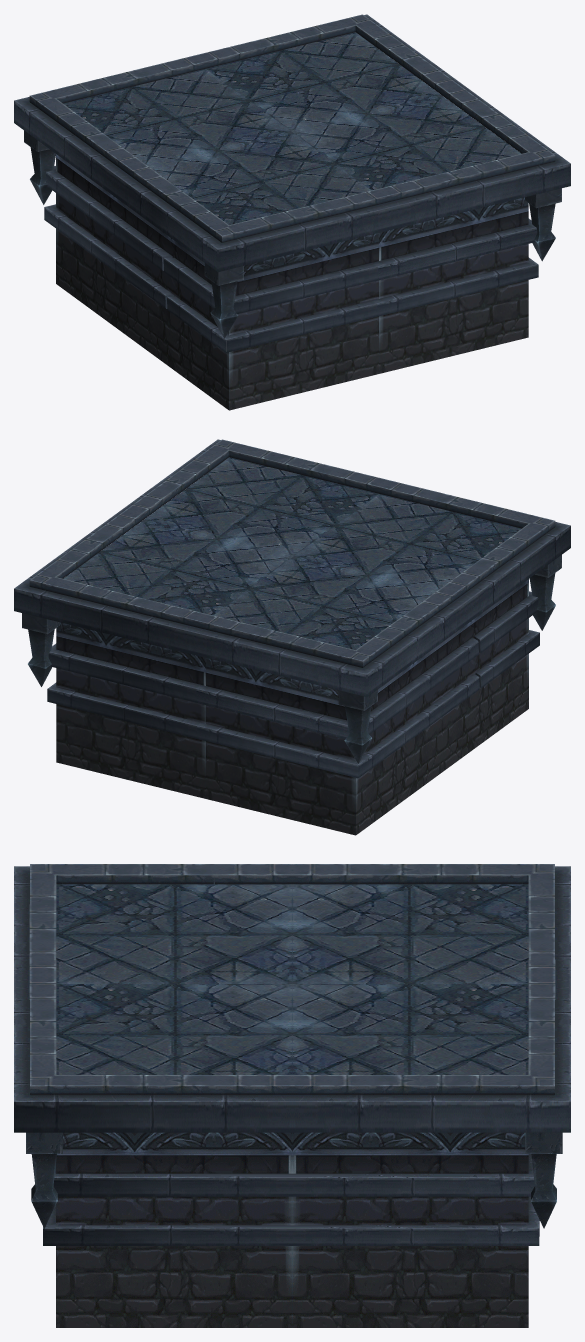
File: Ice_platform07.FBX
3 views of the same model, one above another, from view 1: azimuth 30°, elevation 25°; view 2: azimuth 150°, elevation 25°; view 3: azimuth 270°, elevation 25° (orthographic). The views are drawn at different scales.
Parts seen in each view (by area): view 1: Group008; view 2: Group008; view 3: Group008.
Boxes of the visible parts, box(x1,y1,x2,y2) form: Group008: box(14, 14, 570, 410); Group008: box(14, 439, 570, 835); Group008: box(14, 864, 570, 1327).
Size of the model in its own units: 1072 by 537 by 1072.
